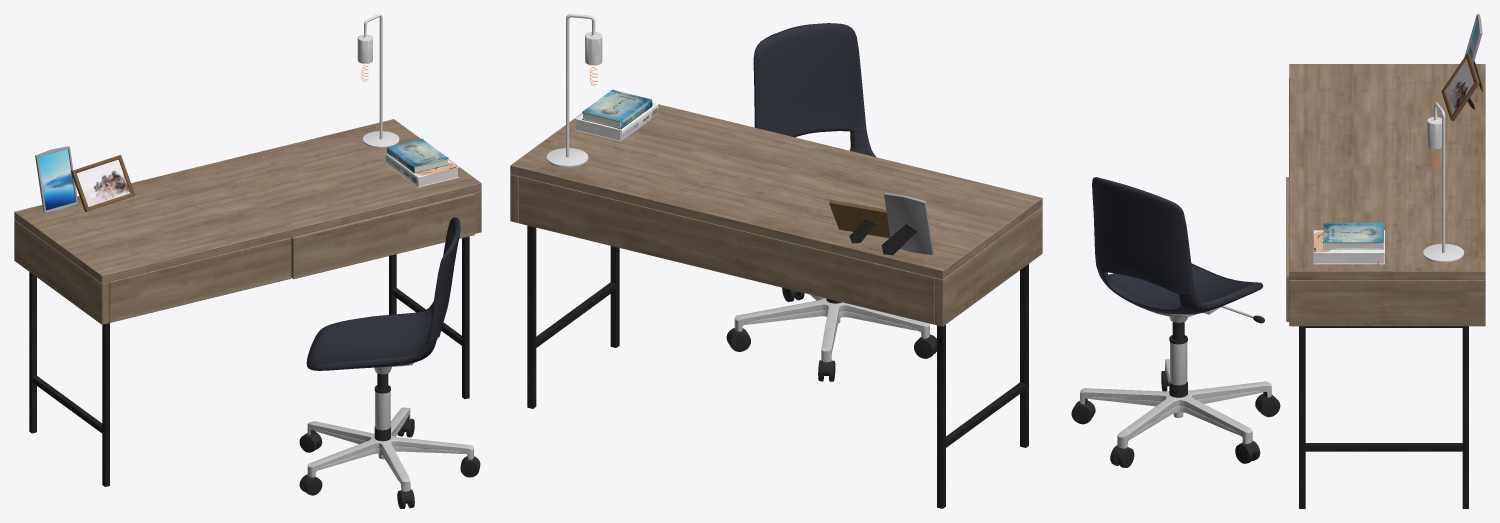
The model's file is desk_set.glb.
3 views of the same model, side by side, from view 1: azimuth 30°, elevation 25°; view 2: azimuth 150°, elevation 25°; view 3: azimuth 270°, elevation 25° (orthographic). The views are drawn at different scales.
Parts seen in each view (by area): view 1: Desk, Office-Chair_Office-Chair_0, Desk-Door_02_Desk_0, Desk-Door_01_Desk_0, Photography_Type1, Photography_Type2, Table-Lamp_Table-Lamp_0, Book-Type2, Book-Type1; view 2: Desk, Office-Chair_Office-Chair_0, Photography_Type2, Table-Lamp_Table-Lamp_0, Photography_Type1, Book-Type2, Book-Type1; view 3: Desk, Office-Chair_Office-Chair_0, Table-Lamp_Table-Lamp_0, Book-Type2, Photography_Type1, Book-Type1, Desk-Door_01_Desk_0, Photography_Type2.
Part boxes in pixels (x1,y1,x2,y2): Desk: (14,119,481,486); Office-Chair_Office-Chair_0: (299,217,480,508); Desk-Door_02_Desk_0: (109,237,291,322); Desk-Door_01_Desk_0: (291,193,474,278); Photography_Type1: (71,155,135,211); Photography_Type2: (35,146,78,212); Table-Lamp_Table-Lamp_0: (357,14,399,147); Book-Type2: (387,138,448,173); Book-Type1: (385,154,459,187); Desk: (510,104,1042,508); Office-Chair_Office-Chair_0: (726,23,936,381); Photography_Type2: (881,192,933,255); Table-Lamp_Table-Lamp_0: (546,14,602,167); Photography_Type1: (829,199,890,243); Book-Type2: (582,89,652,129); Book-Type1: (575,102,658,142); Desk: (1289,64,1485,508); Office-Chair_Office-Chair_0: (1071,177,1280,467); Table-Lamp_Table-Lamp_0: (1423,102,1464,262); Book-Type2: (1323,223,1383,249); Photography_Type1: (1441,53,1479,121); Book-Type1: (1313,230,1384,264); Desk-Door_01_Desk_0: (1286,177,1289,321); Photography_Type2: (1464,14,1482,91).
Size of the model in its own units: 1500 by 1296 by 1266.
Materials: 8 (8 with a texture image).
